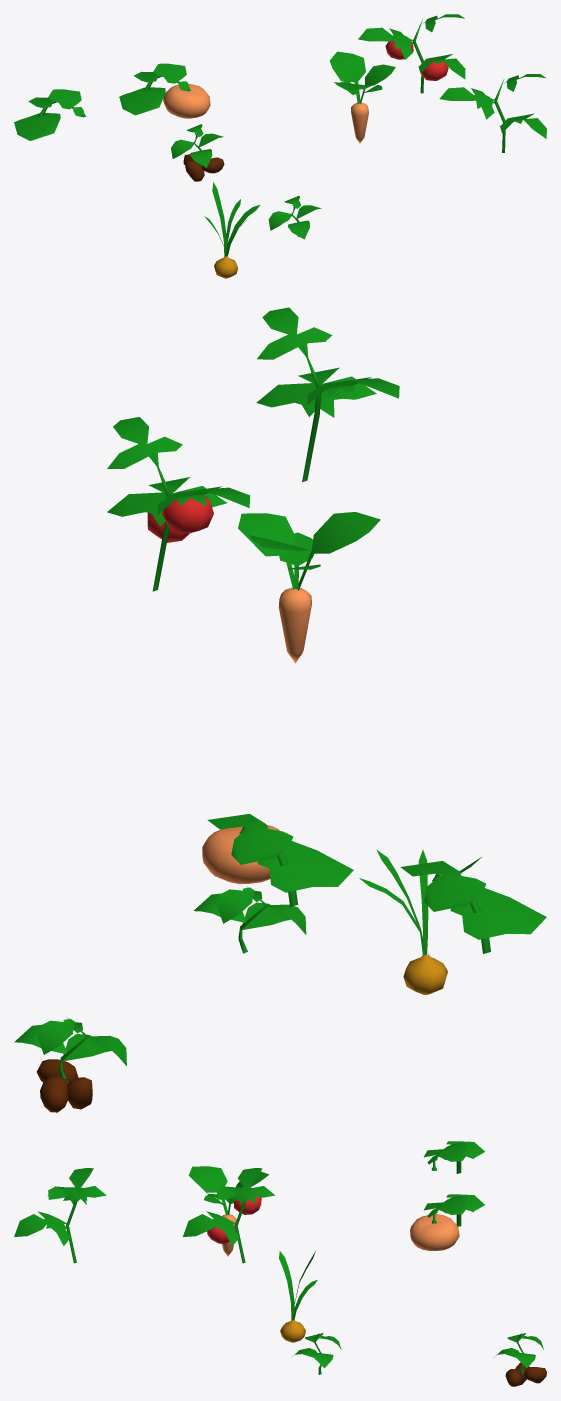
Rendered from овощи_листья.glb.
3 views of the same model, one above another, from view 1: azimuth 30°, elevation 25°; view 2: azimuth 150°, elevation 25°; view 3: azimuth 270°, elevation 25° (orthographic). The views are drawn at different scales.
Parts seen in each view (by area): view 1: Pumpkin_single, Tomato_single, Carrot_single, Pumpkin_single001, Tomato_single001, Potato_single, Onion_single, Potato_single001; view 2: Pumpkin_single, Tomato_single, Carrot_single, Tomato_single001, Pumpkin_single001, Potato_single, Potato_single001, Onion_single; view 3: Tomato_single, Pumpkin_single, Tomato_single001, Carrot_single, Potato_single, Onion_single, Pumpkin_single001, Potato_single001.
Boxes of the visible parts, x1,y1,x2,y2 form: Pumpkin_single: (119, 63, 210, 118); Tomato_single: (358, 14, 465, 93); Carrot_single: (330, 51, 395, 143); Pumpkin_single001: (14, 89, 85, 140); Tomato_single001: (439, 74, 546, 152); Potato_single: (171, 124, 224, 181); Onion_single: (205, 182, 259, 278); Potato_single001: (268, 195, 321, 239); Pumpkin_single: (202, 813, 353, 906); Tomato_single: (107, 417, 250, 591); Carrot_single: (238, 512, 380, 663); Tomato_single001: (256, 307, 399, 482); Pumpkin_single001: (400, 861, 546, 953); Potato_single: (14, 1017, 126, 1112); Potato_single001: (194, 886, 306, 953); Onion_single: (359, 850, 481, 994); Tomato_single: (183, 1168, 275, 1263); Pumpkin_single: (410, 1194, 484, 1250); Tomato_single001: (14, 1168, 106, 1263); Carrot_single: (188, 1166, 269, 1256); Potato_single: (493, 1333, 546, 1386); Onion_single: (279, 1251, 317, 1342); Pumpkin_single001: (424, 1141, 484, 1173); Potato_single001: (291, 1333, 341, 1374).
Bounding box in the file's own units: 4.62 × 3.19 × 6.12.
